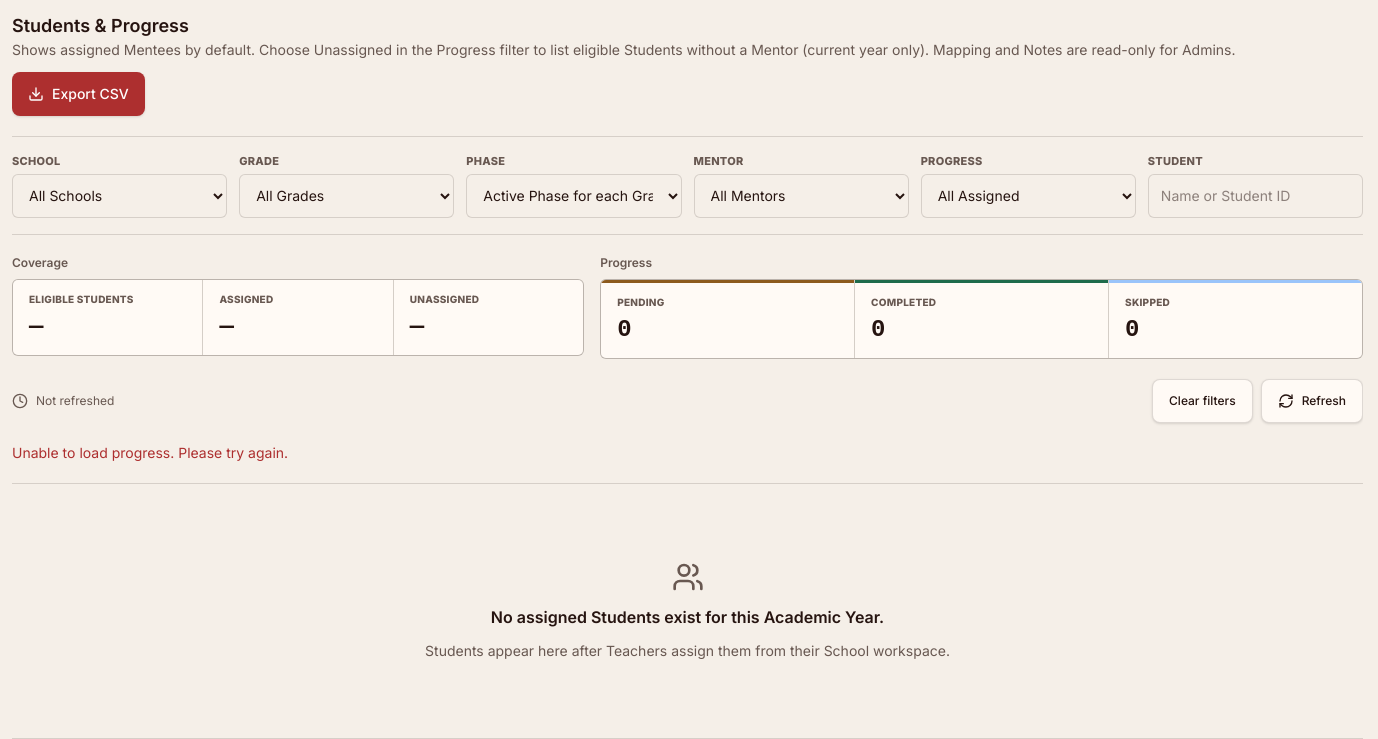
it: ProgressWorkspace › shows a useful error and recovers after an invalid response (500)
The width and height of the screenshot is (1378, 739).
Expected: the message reads "Unable to load progress. Please try again.", [12,444,288,460]
Expected: the text "Student One" is not shown
Click the button "Refresh": x=1312, y=400 [1261,378,1363,422]
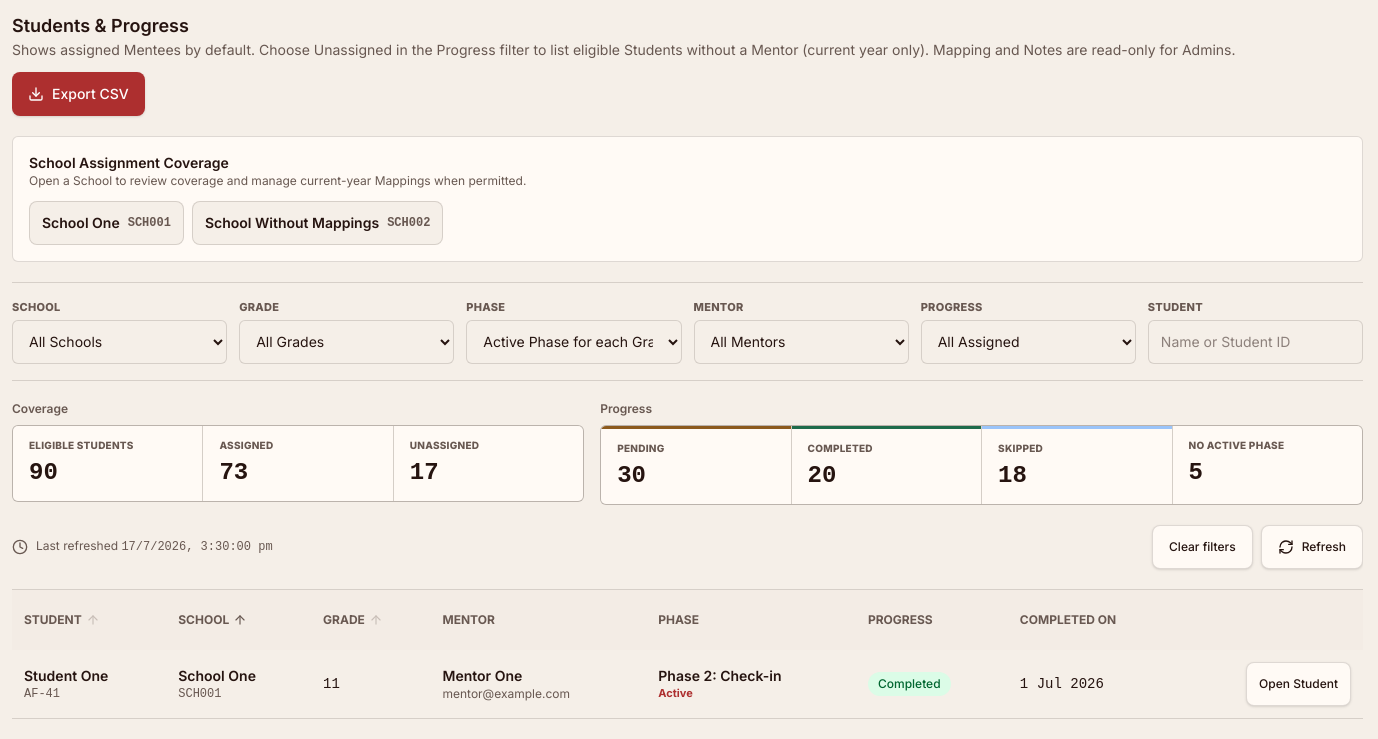
Now the text "Student One" is shown, box [24,666,108,684]
Now the message "Unable to load progress. Please try again." is gone
